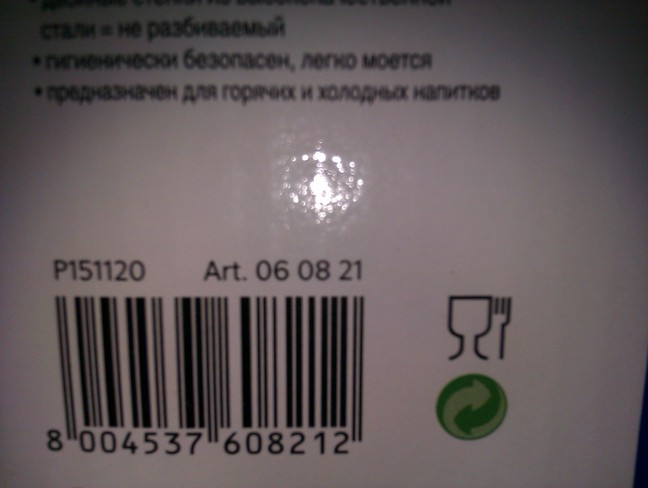barcode: (30, 282, 380, 472)
